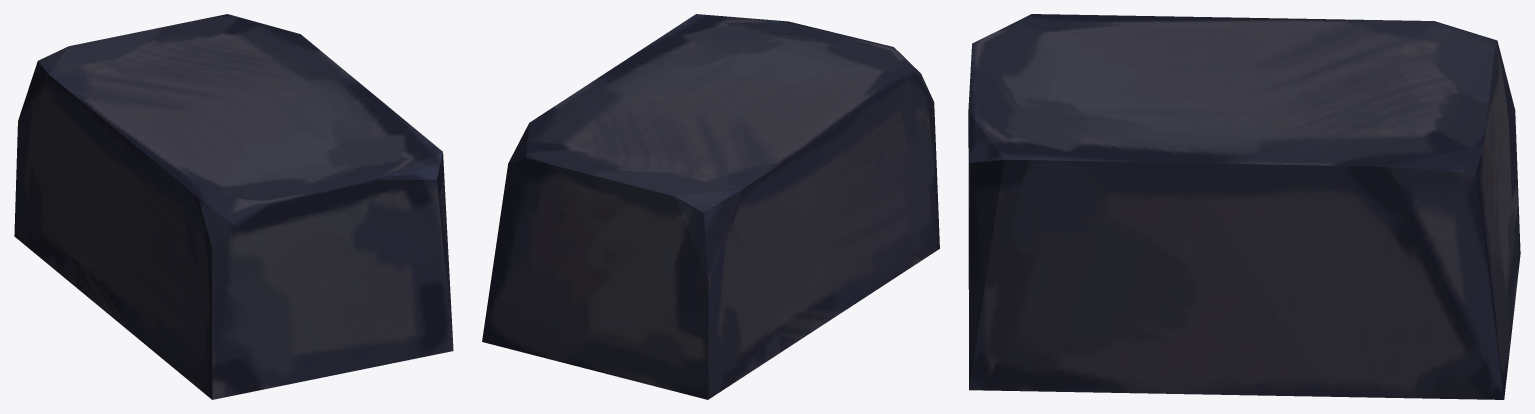
File: Debris07.fbx
3 renders of one model, left to right at view 1: azimuth 30°, elevation 25°; view 2: azimuth 150°, elevation 25°; view 3: azimuth 270°, elevation 25°, orthographic. The views are drawn at different scales.
Parts seen in each view (by area): view 1: Debris07; view 2: Debris07; view 3: Debris07.
Boxes of the visible parts, x1=… form: Debris07: x1=14, y1=14, x2=453, y2=399; Debris07: x1=482, y1=14, x2=939, y2=399; Debris07: x1=968, y1=14, x2=1520, y2=399.
Size of the model in its own units: 0.5911 by 0.429 by 0.9021.
1 material, 1 textured.
